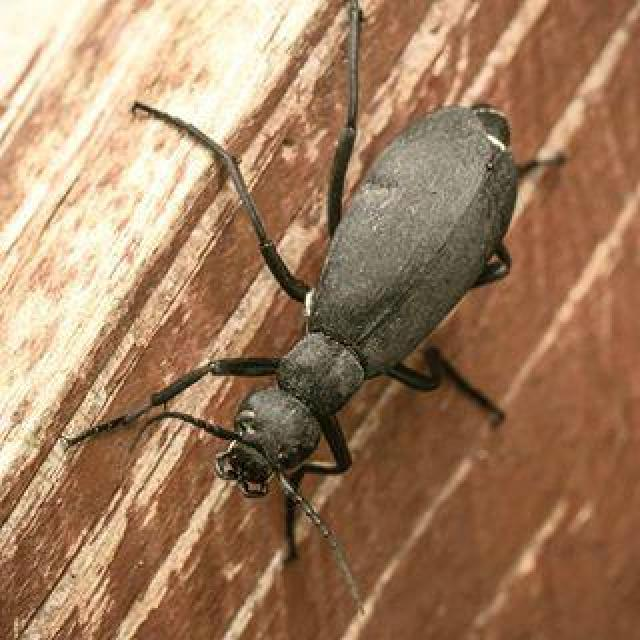BlisterBeetle-Adult-: (104, 1, 551, 534)
